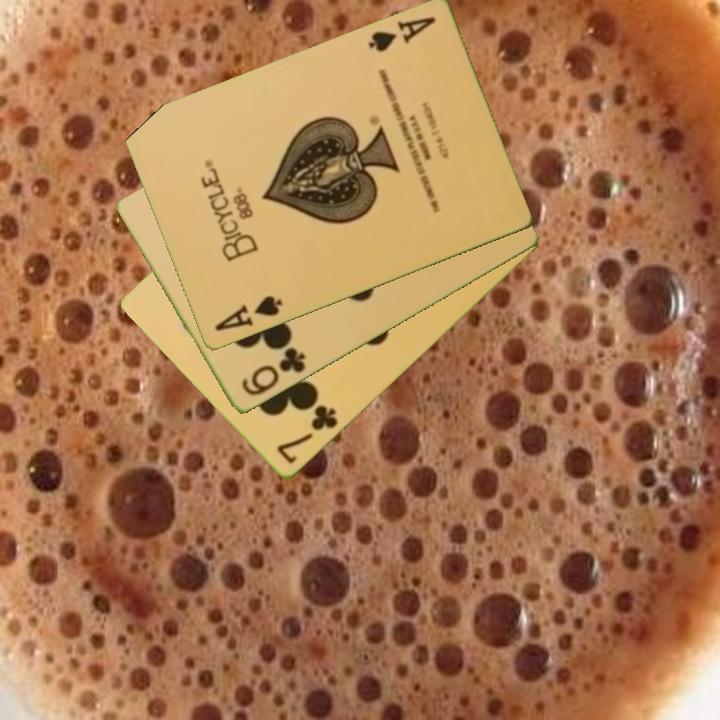6c: (237, 344, 308, 400)
7c: (273, 402, 341, 468)
As: (211, 292, 286, 335), (364, 13, 439, 56)
